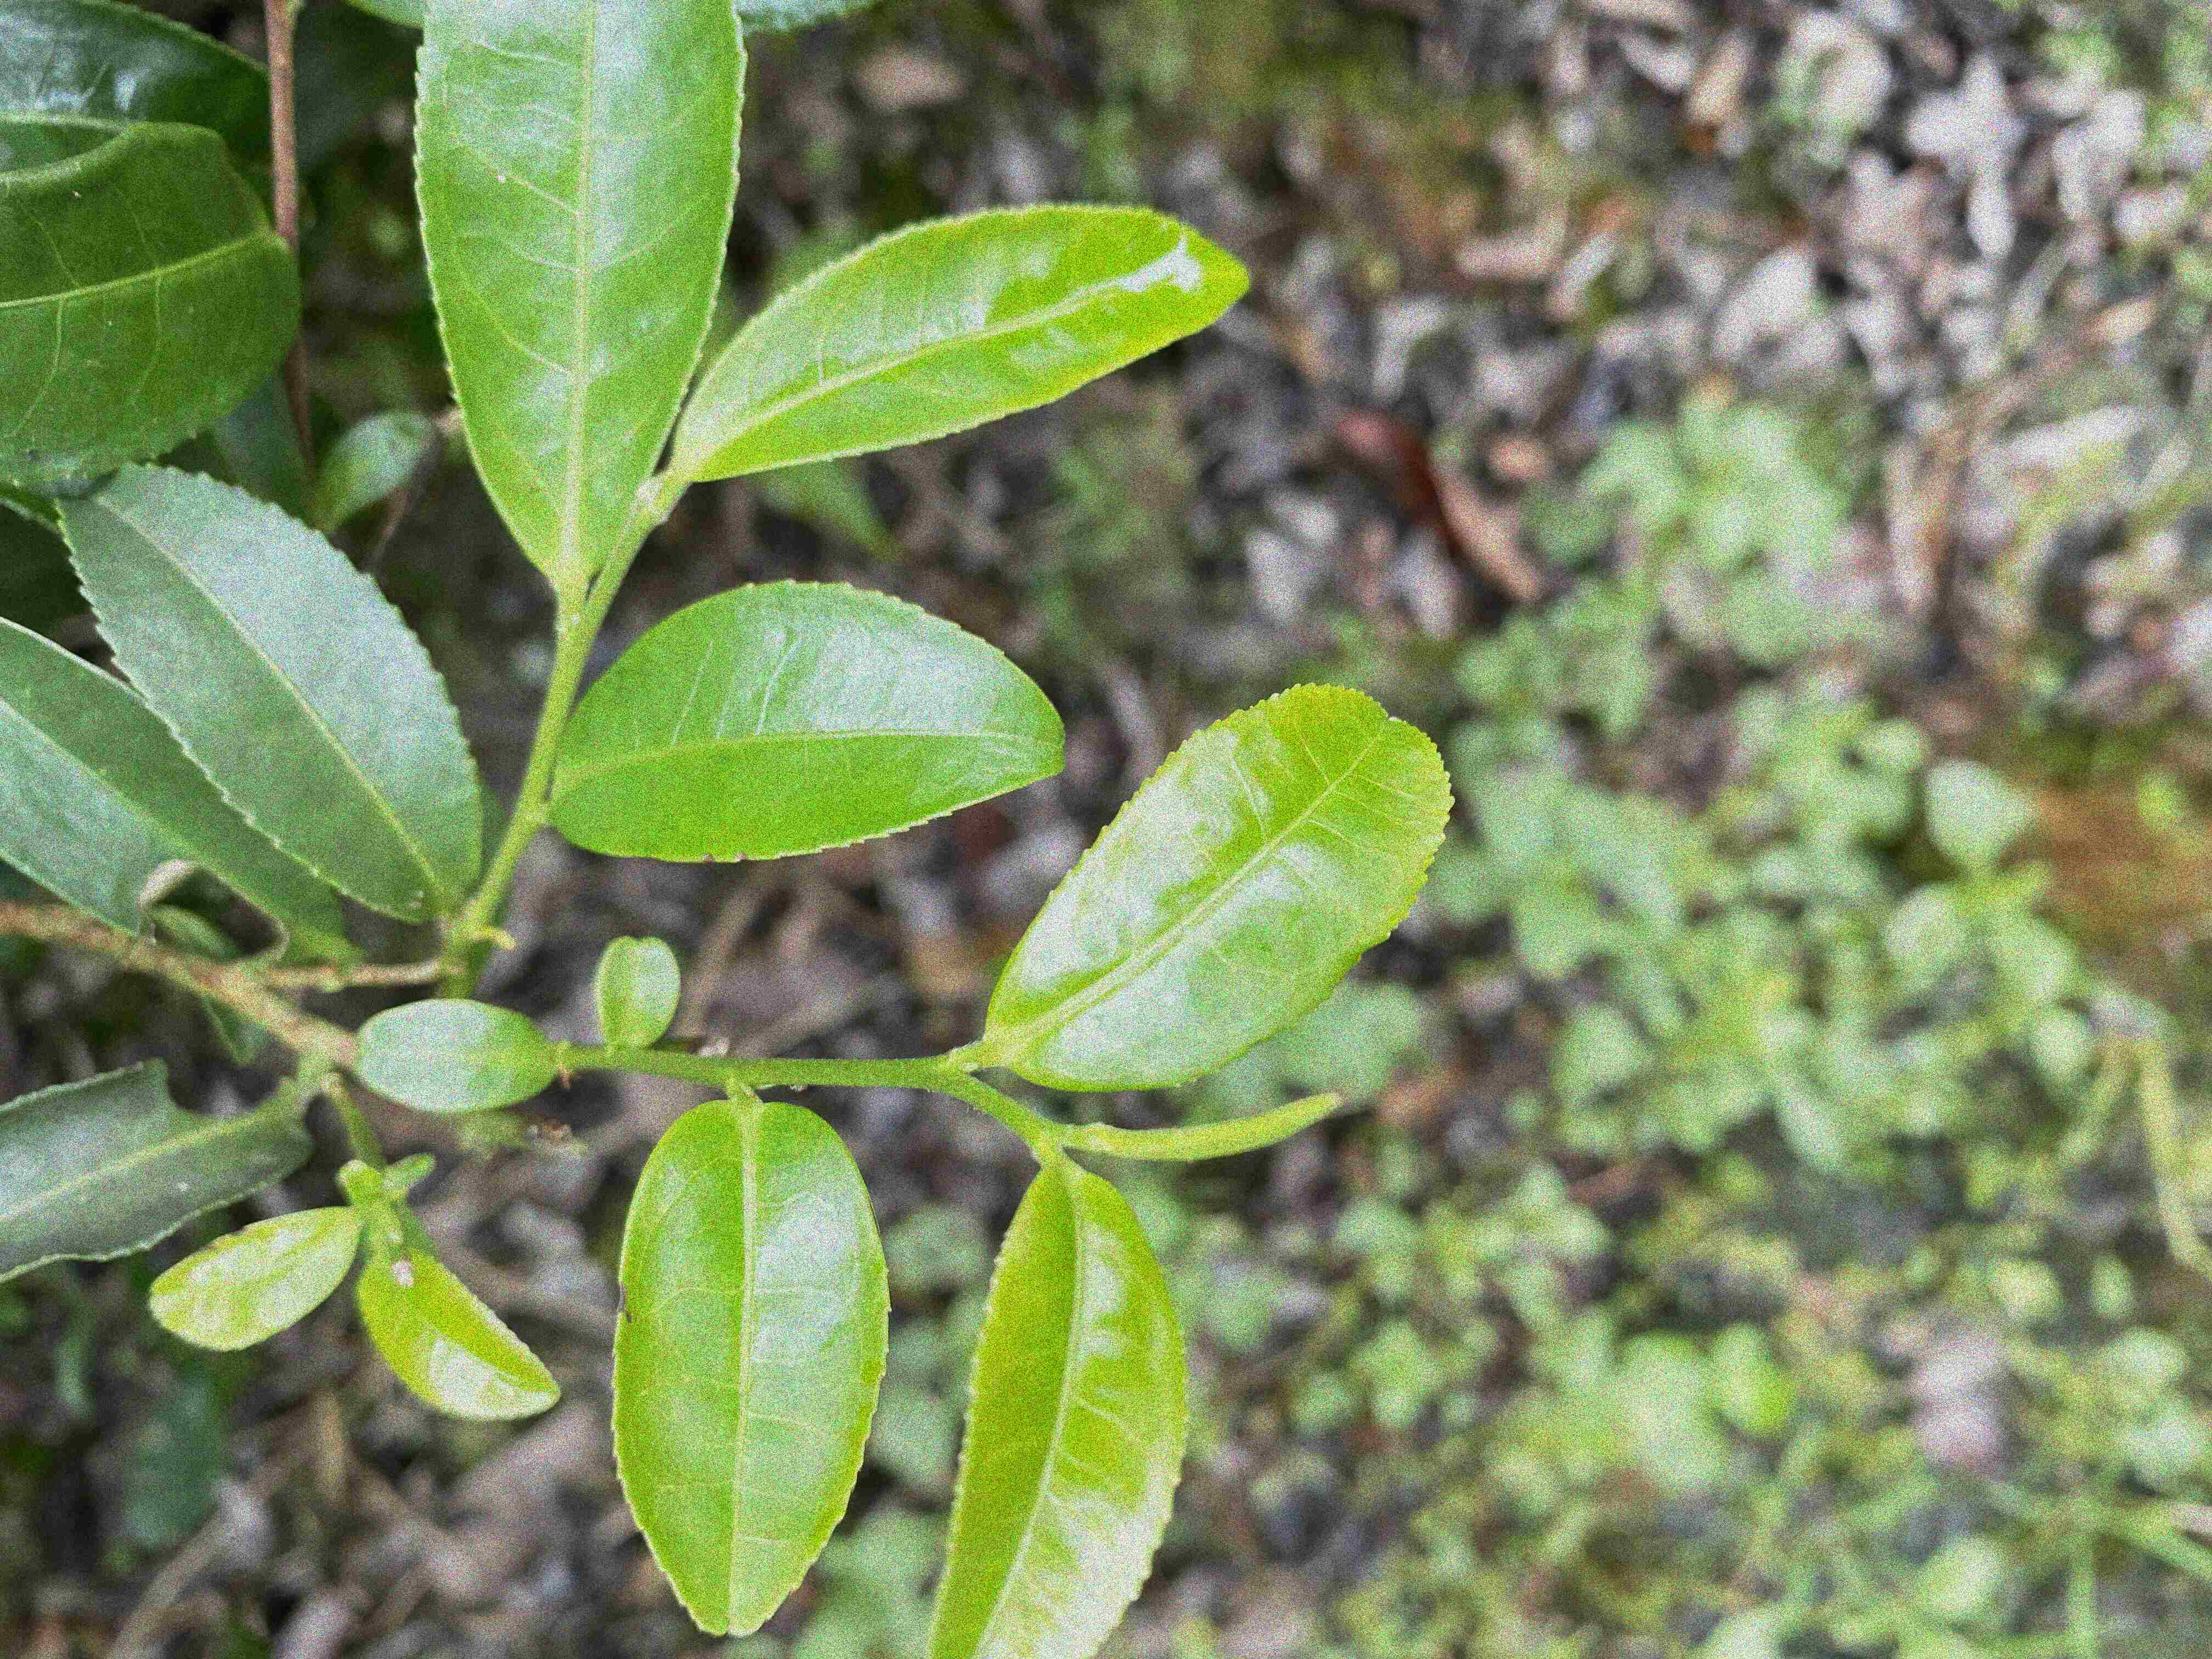chihuo_low: (5, 615, 354, 969), (2, 1053, 315, 1279)
healthy: (411, 2, 752, 592), (57, 457, 486, 918), (1000, 676, 1456, 1091), (664, 200, 1254, 483), (921, 1150, 1191, 1654), (352, 1244, 561, 1417), (357, 1002, 563, 1108), (594, 932, 676, 1053)
tanju_low: (603, 1091, 895, 1645)
